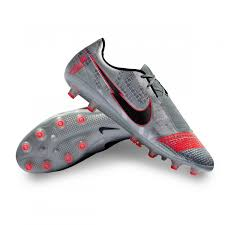nike: (84, 54, 157, 126), (98, 119, 124, 136)
